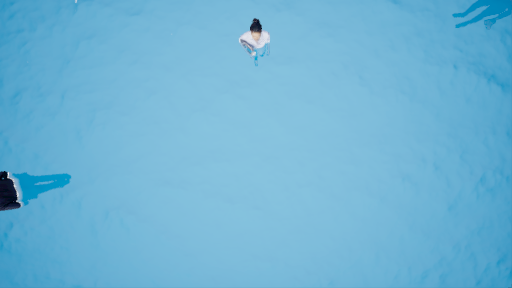person: (1, 163, 77, 214), (230, 11, 276, 68)
